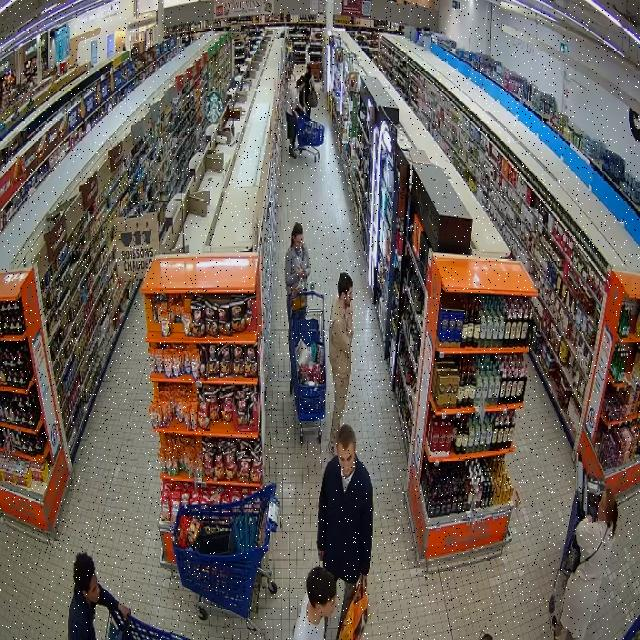bags: (338, 580, 367, 639)
hands: (357, 575, 368, 591), (298, 267, 305, 277)
person: (318, 423, 372, 627), (555, 489, 617, 639), (68, 553, 129, 639), (328, 272, 353, 454), (293, 566, 335, 639), (285, 222, 309, 307), (287, 78, 301, 158), (294, 298, 304, 314)
